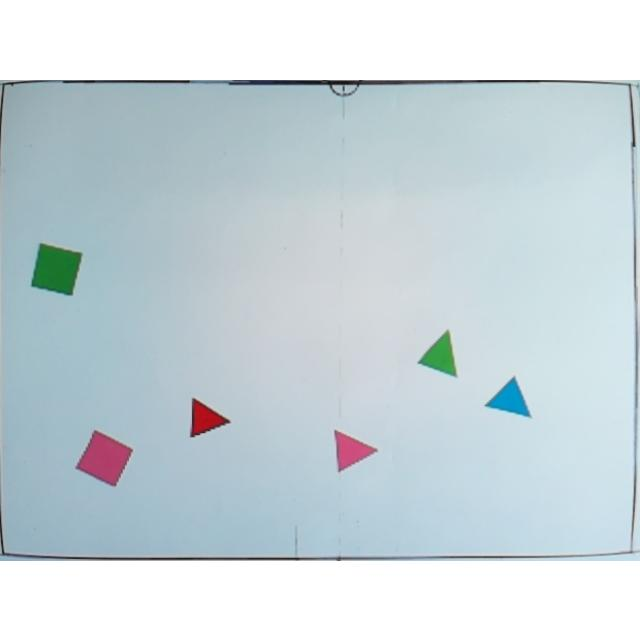blueTriangle: (483, 373, 532, 419)
greenSquare: (28, 240, 82, 296)
greenTriangle: (417, 327, 461, 378)
pinkSquare: (74, 428, 134, 487)
pinkTriangle: (332, 428, 378, 472)
redTriangle: (189, 396, 231, 436)
